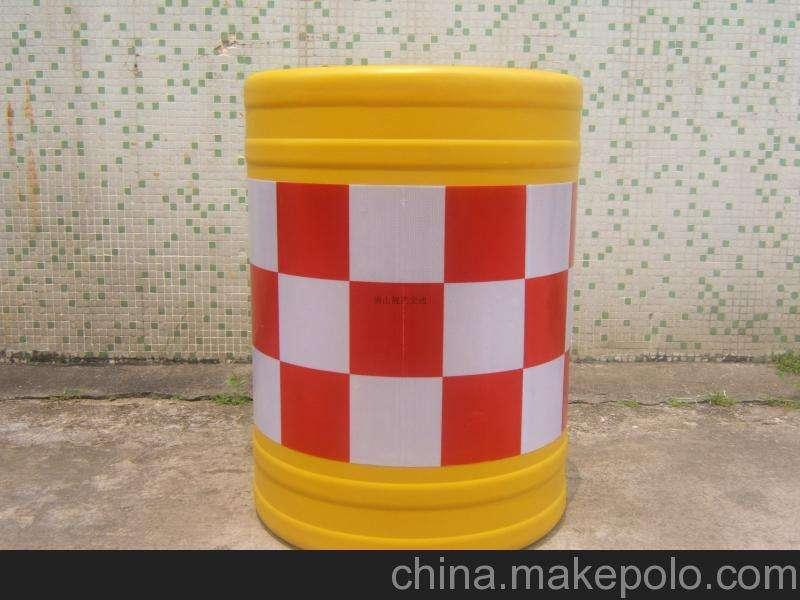sign: (233, 54, 592, 549)
